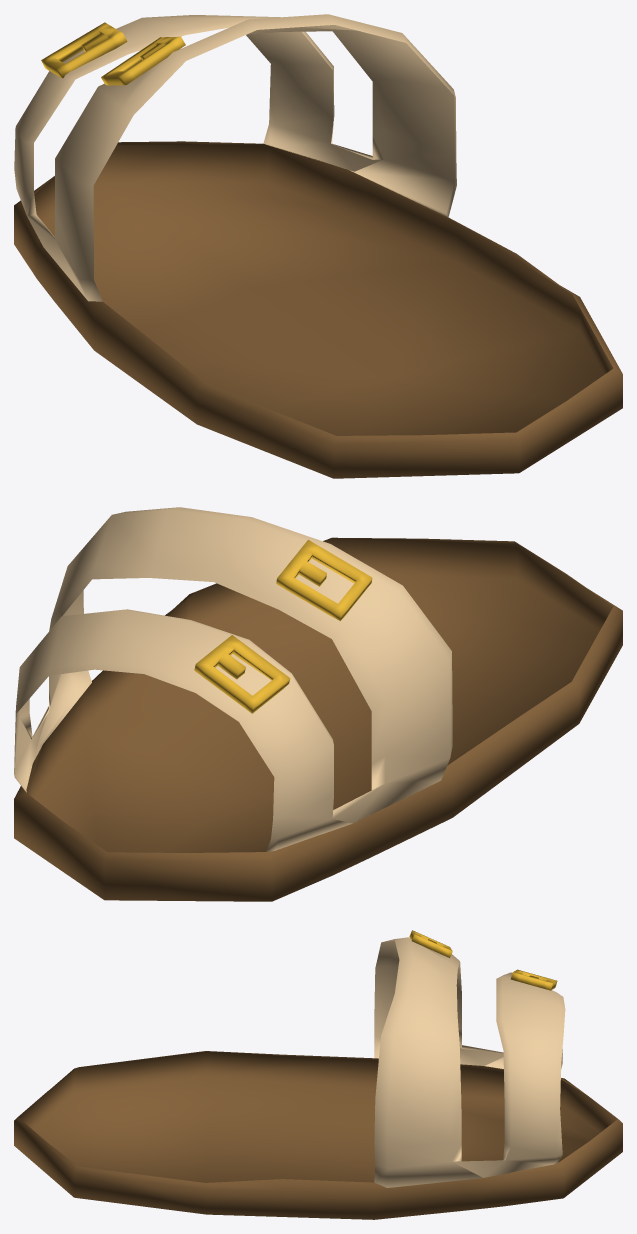
Rendered from sandalsleft.fbx.
3 renders of one model, top to bottom at view 1: azimuth 30°, elevation 25°; view 2: azimuth 150°, elevation 25°; view 3: azimuth 270°, elevation 25°, orthographic. The views are drawn at different scales.
Visible parts, largest first — view 1: left.003; view 2: left.003; view 3: left.003.
Boxes of the visible parts, x1,y1,x2,y2 form: left.003: [14, 14, 622, 478]; left.003: [14, 507, 622, 901]; left.003: [14, 930, 622, 1219].
Size of the model in its own units: 41.67 by 14.91 by 22.33.
